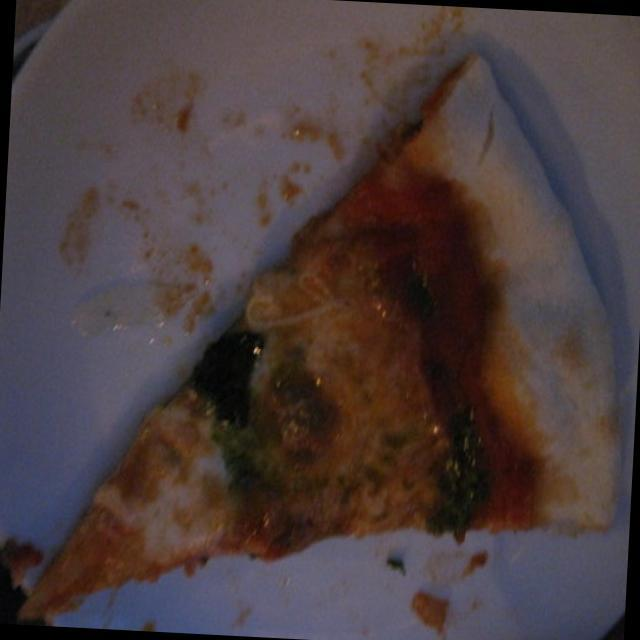Pizza: (10, 26, 640, 640)
